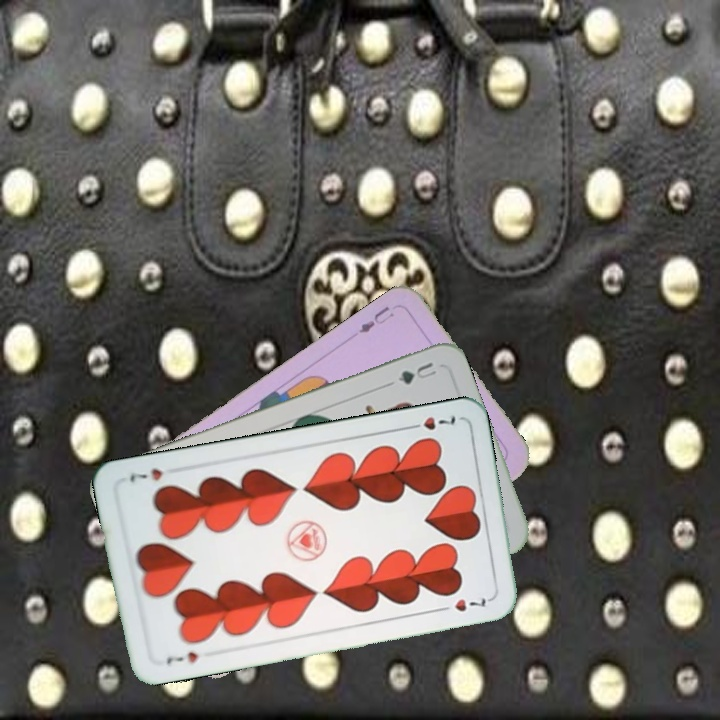EU: (355, 302, 397, 336)
GU: (393, 358, 439, 387)
H7: (402, 411, 458, 433), (162, 647, 200, 667)
